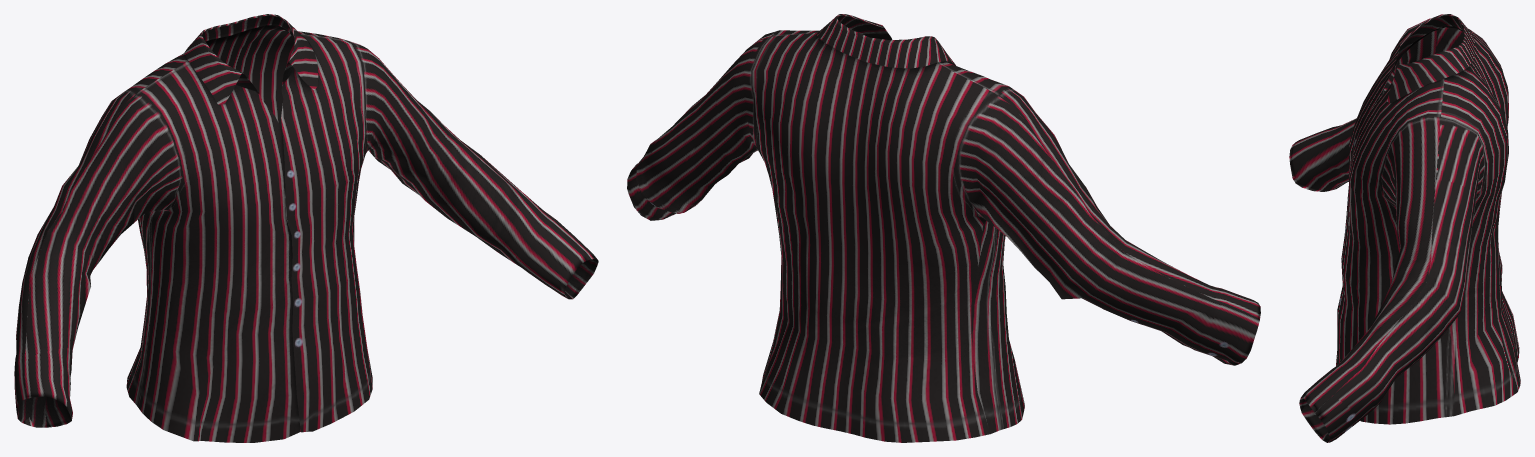
The model's file is LXL_SMM.dae.
3 views of the same model, side by side, from view 1: azimuth 30°, elevation 25°; view 2: azimuth 150°, elevation 25°; view 3: azimuth 270°, elevation 25° (orthographic). The views are drawn at different scales.
Visible parts, largest first — view 1: dressshirt; view 2: dressshirt; view 3: dressshirt.
Boxes of the visible parts, x1,y1,x2,y2 form: dressshirt: (14,14,598,442); dressshirt: (627,14,1260,442); dressshirt: (1289,14,1520,442).
Size of the model in its own units: 10.44 by 6.39 by 3.72.
